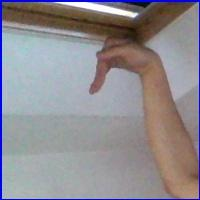del: (86, 33, 162, 101)
